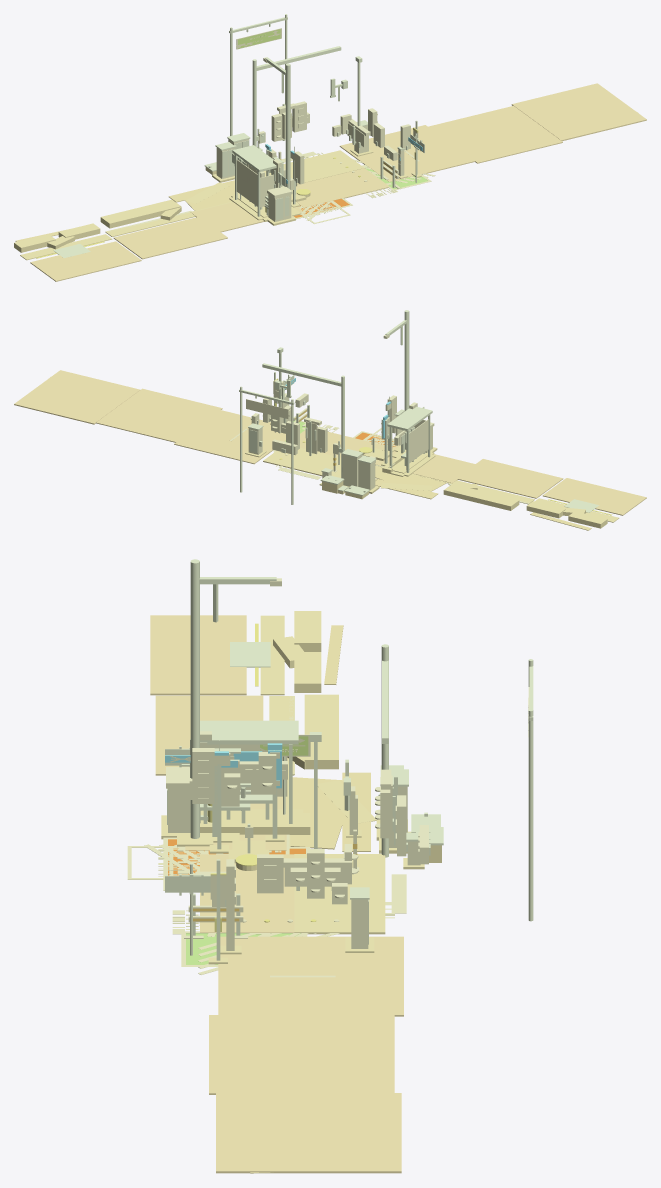
Rendered from scene_signalized_intersection.glb.
3 renders of one model, top to bottom at view 1: azimuth 30°, elevation 25°; view 2: azimuth 150°, elevation 25°; view 3: azimuth 270°, elevation 25°, orthographic. The views are drawn at different scales.
Parts seen in each view (by area): view 1: base (×3), travel_lane (×2), body, concrete_lane, travel_lane_main, barrier_base, glass_back, pole, roof, shoulder_pad, temporary_pad, taper_zone (+5 smaller); view 2: base (×3), travel_lane (×2), concrete_lane, travel_lane_main, cabinet (×2), barrier_base, taper_zone, body, glass_back, asphalt_lane, roof, pole (+6 smaller); view 3: base (×3), travel_lane (×2), body (×2), concrete_lane, taper_zone, roof, pole, barrier_base, asphalt_lane, housing (×2), temporary_pad, outer_shoulder (+6 smaller).
Part boxes in pixels (x1=…): base (×3): x1=339, y1=83, x2=646, y2=181; travel_lane (×2): x1=30, y1=216, x2=227, y2=281; body: x1=296, y1=168, x2=389, y2=207; concrete_lane: x1=263, y1=150, x2=364, y2=184; travel_lane_main: x1=191, y1=202, x2=303, y2=232; barrier_base: x1=100, y1=199, x2=181, y2=228; glass_back: x1=236, y1=159, x2=257, y2=206; pole: x1=285, y1=63, x2=290, y2=188; roof: x1=232, y1=145, x2=276, y2=171; shoulder_pad: x1=105, y1=212, x2=195, y2=236; temporary_pad: x1=20, y1=234, x2=112, y2=260; taper_zone: x1=184, y1=187, x2=238, y2=210; base (×3): x1=14, y1=370, x2=300, y2=464; travel_lane (×2): x1=456, y1=459, x2=646, y2=515; concrete_lane: x1=263, y1=447, x2=341, y2=477; travel_lane_main: x1=375, y1=445, x2=475, y2=483; cabinet (×2): x1=342, y1=454, x2=375, y2=490; barrier_base: x1=443, y1=484, x2=519, y2=510; taper_zone: x1=375, y1=466, x2=446, y2=493; body: x1=263, y1=430, x2=387, y2=476; glass_back: x1=409, y1=419, x2=428, y2=463; asphalt_lane: x1=300, y1=430, x2=384, y2=457; roof: x1=387, y1=406, x2=432, y2=431; pole: x1=404, y1=310, x2=409, y2=449; base (×3): x1=209, y1=936, x2=403, y2=1173; travel_lane (×2): x1=150, y1=615, x2=263, y2=775; body (×2): x1=168, y1=788, x2=384, y2=934; concrete_lane: x1=294, y1=854, x2=385, y2=934; taper_zone: x1=286, y1=777, x2=356, y2=849; roof: x1=200, y1=720, x2=298, y2=744; pole: x1=190, y1=559, x2=199, y2=838; barrier_base: x1=304, y1=694, x2=338, y2=769; asphalt_lane: x1=200, y1=854, x2=294, y2=932; housing (×2): x1=192, y1=748, x2=283, y2=893; temporary_pad: x1=260, y1=615, x2=284, y2=695; outer_shoulder: x1=342, y1=772, x2=370, y2=851.
Size of the model in its own units: 28.44 by 6.64 by 8.76.
